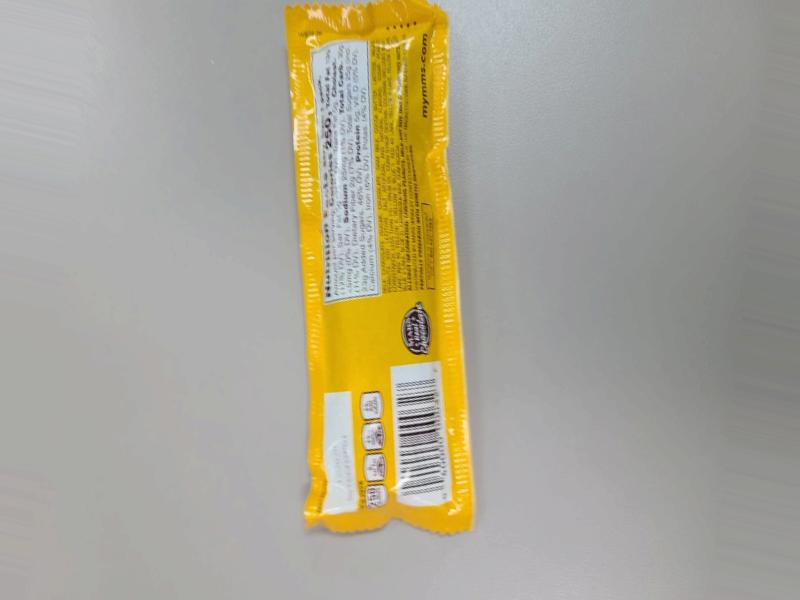m&m: (274, 106, 452, 510)
